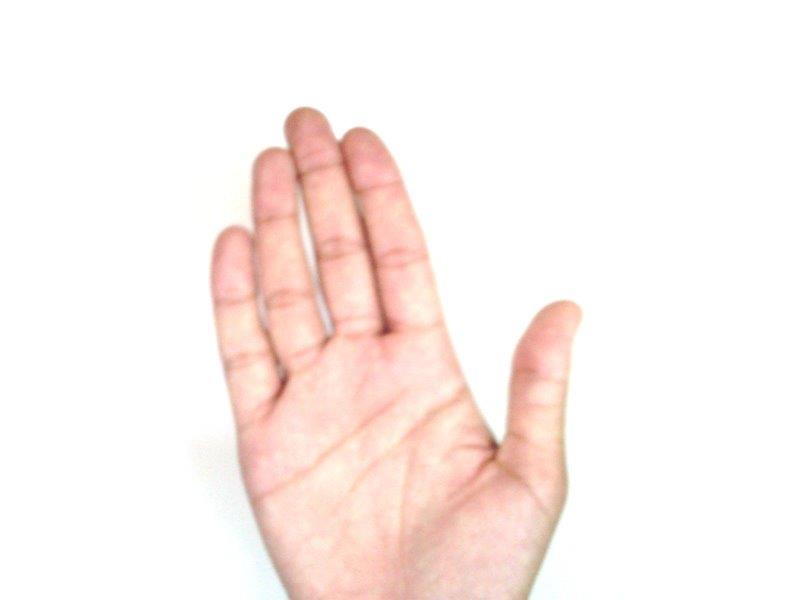hand: (211, 107, 582, 600)
